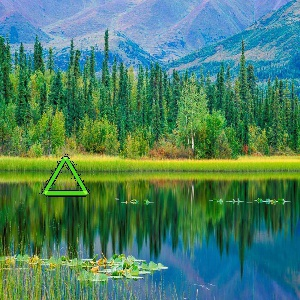triangle: (37, 152, 91, 198)
